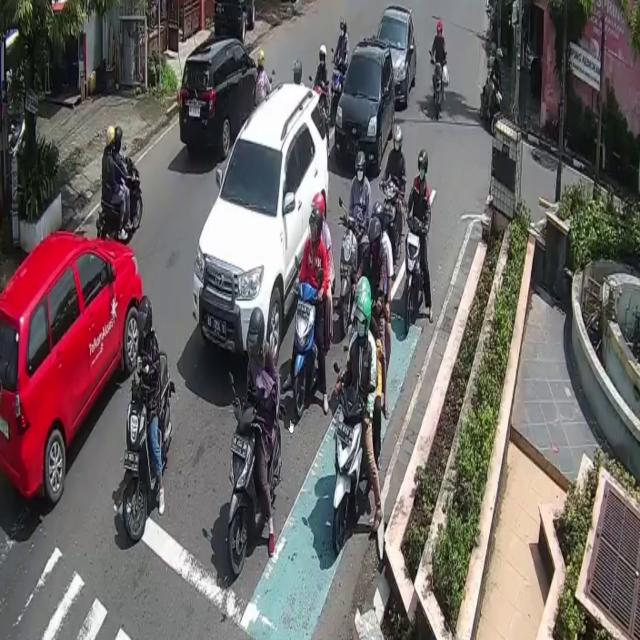bus: (228, 375, 280, 578), (128, 350, 174, 541), (334, 386, 366, 552), (99, 158, 142, 241), (296, 280, 318, 417), (404, 213, 426, 335), (338, 216, 358, 335), (483, 76, 502, 133), (434, 61, 444, 126)
motorcycle: (192, 80, 328, 374), (1, 230, 142, 508), (181, 37, 257, 156), (334, 39, 395, 177), (374, 5, 417, 107)
